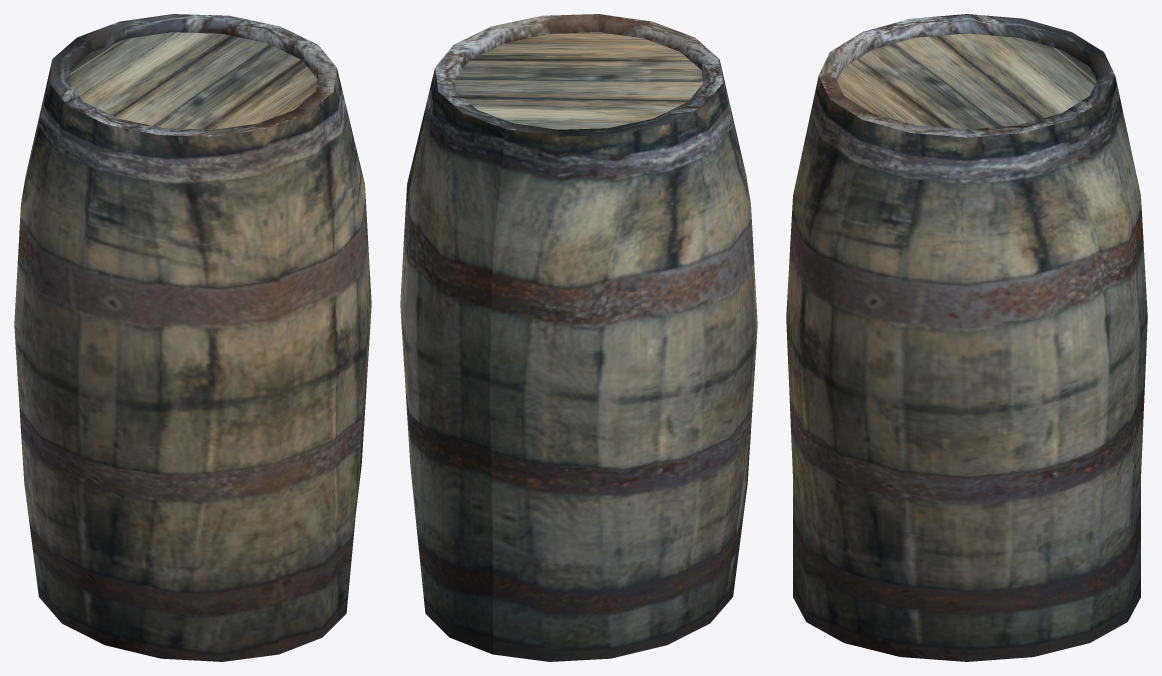
Rendered from barrell1.obj.
3 renders of one model, left to right at view 1: azimuth 30°, elevation 25°; view 2: azimuth 150°, elevation 25°; view 3: azimuth 270°, elevation 25°, orthographic.
Parts seen in each view (by area): view 1: bltool; view 2: bltool; view 3: bltool.
Boxes of the visible parts, box(x1,y1,x2,y2) form: bltool: box(14, 14, 371, 661); bltool: box(400, 14, 757, 661); bltool: box(786, 14, 1147, 661).
Bounding box in the file's own units: 23.88 × 37.66 × 23.67.
